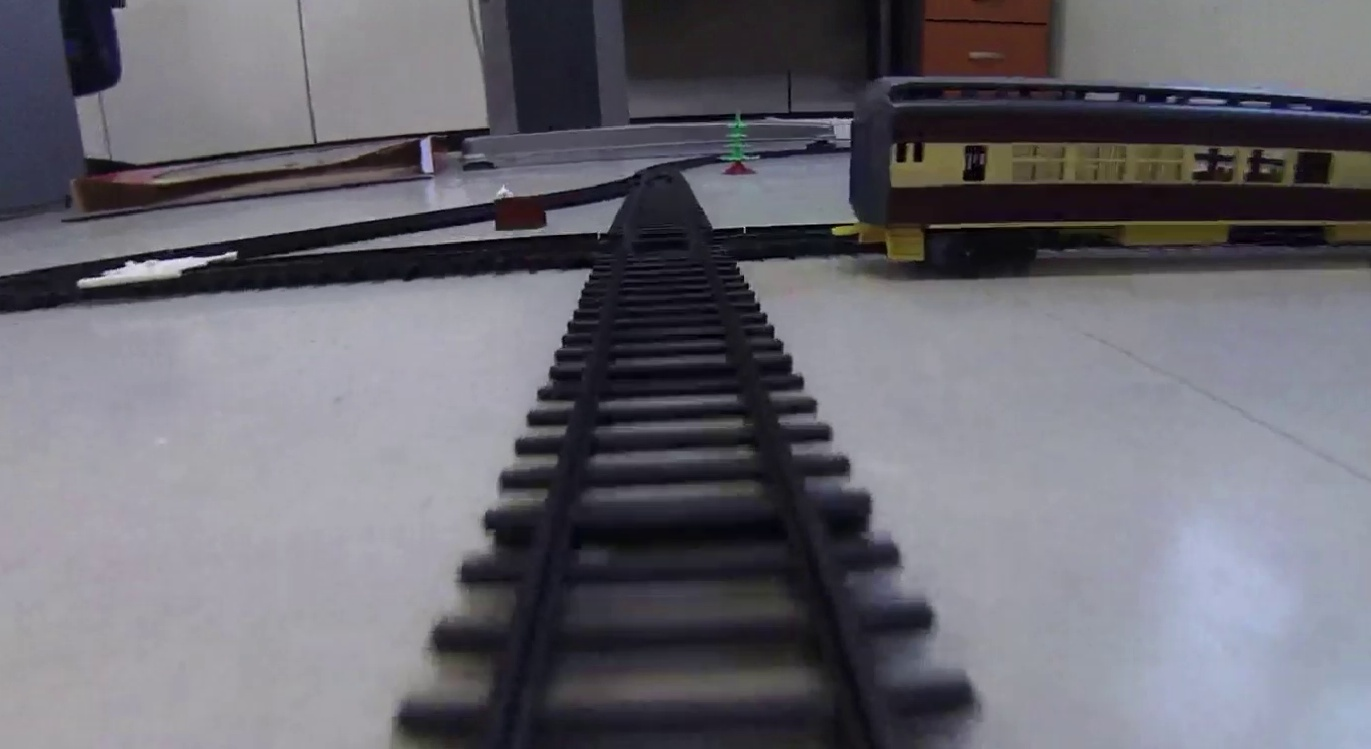box: (495, 198, 551, 232)
tree: (714, 113, 764, 178)
web: (76, 252, 244, 283)
